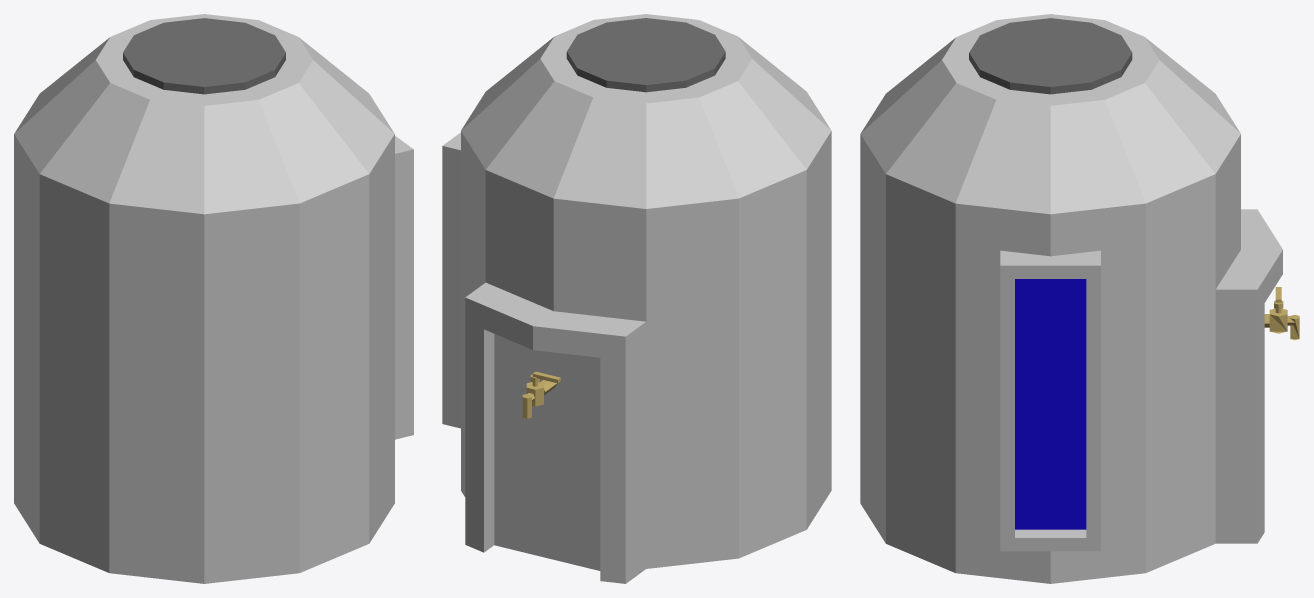
File: Storage_Ferrocement.fbx
3 views of the same model, side by side, from view 1: azimuth 30°, elevation 25°; view 2: azimuth 150°, elevation 25°; view 3: azimuth 270°, elevation 25° (orthographic). The views are drawn at different scales.
Parts seen in each view (by area): view 1: Ferrocement Tank; view 2: Ferrocement Tank, Ferrocement Tap; view 3: Ferrocement Tank, Ferrocement Tap.
Boxes of the visible parts, x1,y1,x2,y2 form: Ferrocement Tank: (14, 14, 413, 583); Ferrocement Tank: (442, 14, 831, 583); Ferrocement Tap: (522, 371, 560, 418); Ferrocement Tank: (860, 14, 1282, 583); Ferrocement Tap: (1264, 287, 1299, 340).
Bounding box in the file's own units: 1.92 × 2.09 × 2.37.
